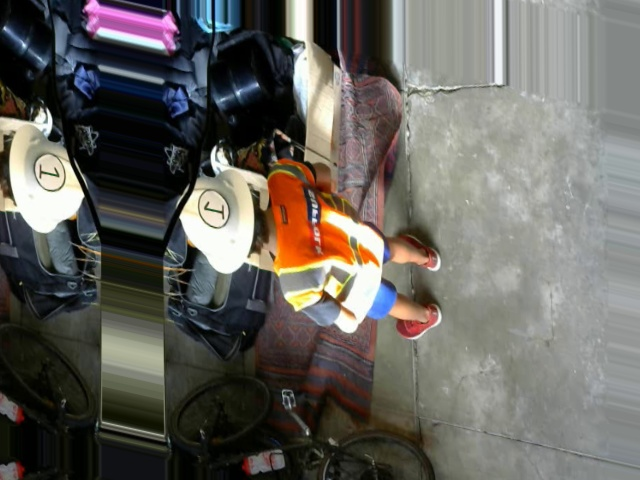one: (196, 186, 229, 231)
